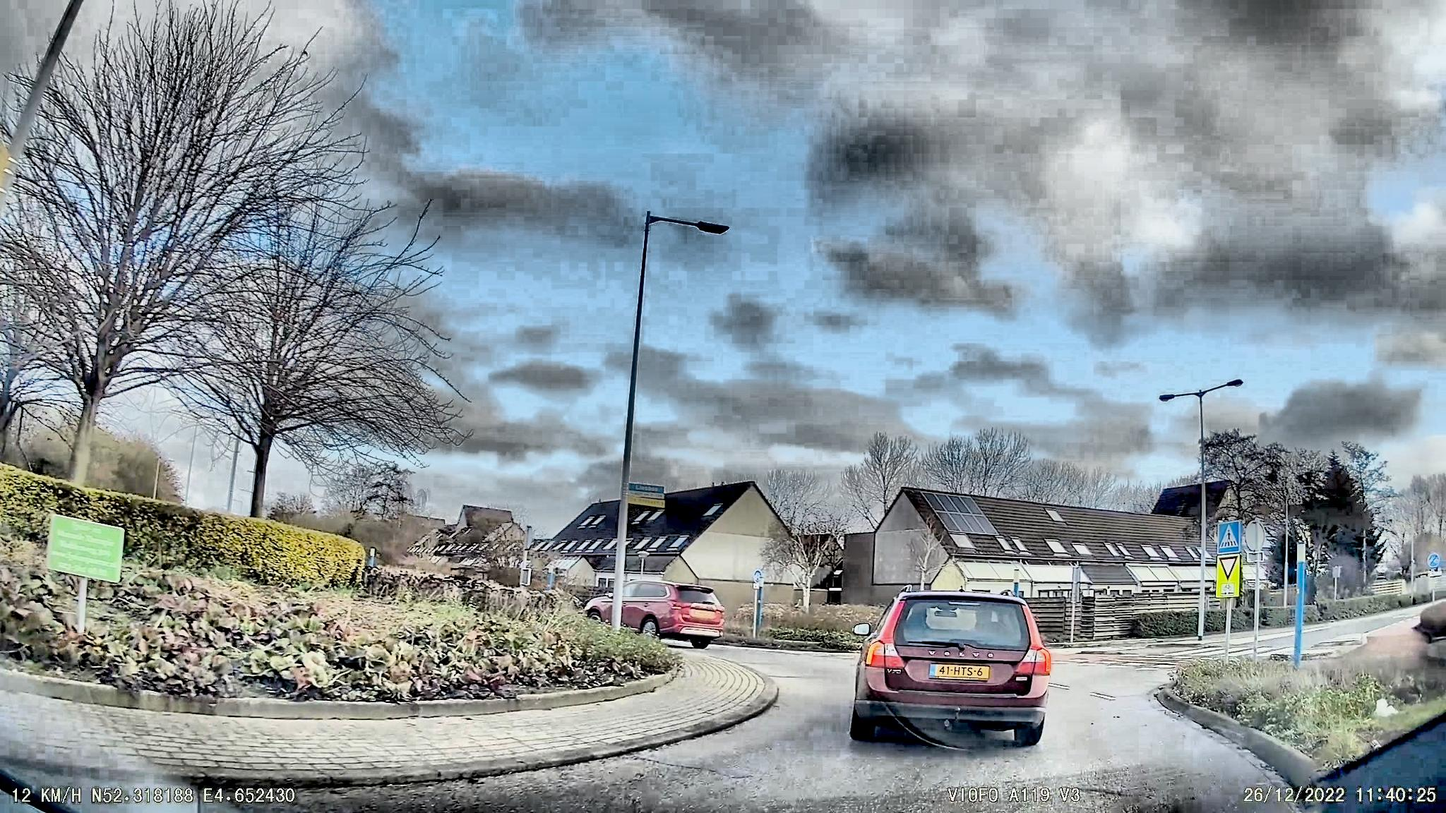Roads: (21, 655, 1288, 813)
